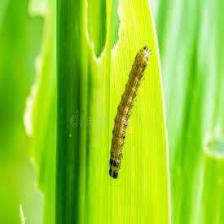Worms: (105, 45, 155, 185)
